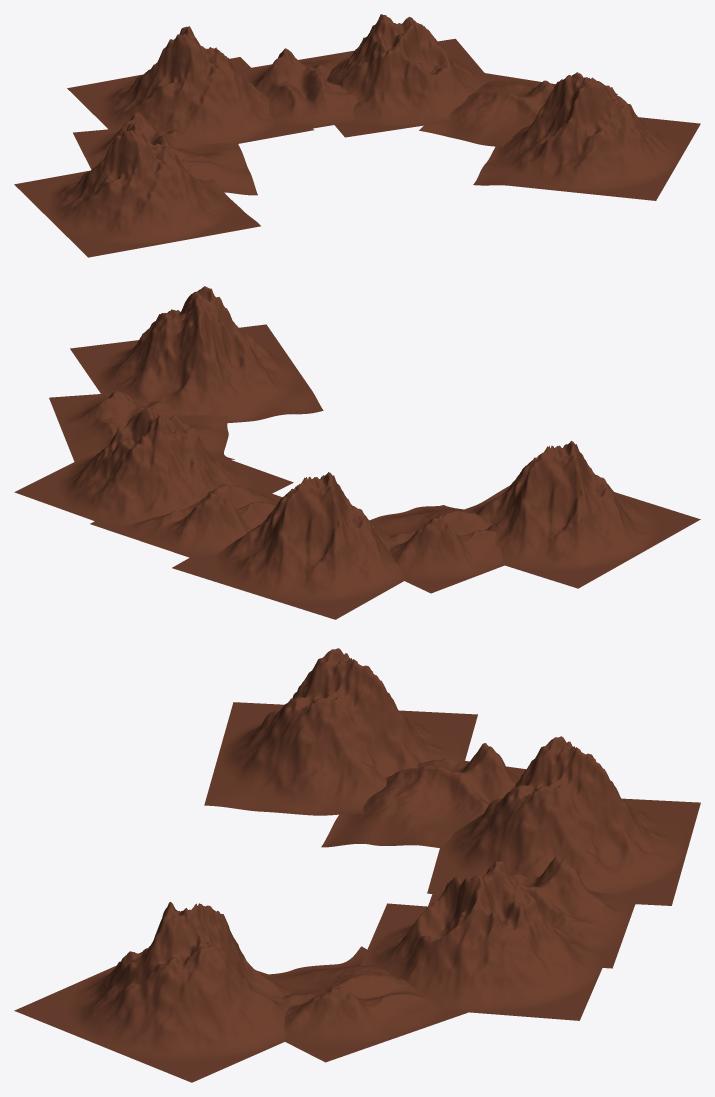
The model's file is environment2.fbx.
3 renders of one model, top to bottom at view 1: azimuth 30°, elevation 25°; view 2: azimuth 150°, elevation 25°; view 3: azimuth 270°, elevation 25°, orthographic. The views are drawn at different scales.
Visible parts, largest first — view 1: Landscape.015; view 2: Landscape.015; view 3: Landscape.015.
Boxes of the visible parts, <box> form: Landscape.015: <box>14,14,700,257</box>; Landscape.015: <box>14,286,700,619</box>; Landscape.015: <box>14,648,700,1082</box>.
Bounding box in the file's own units: 17767 × 2613 × 13549.
